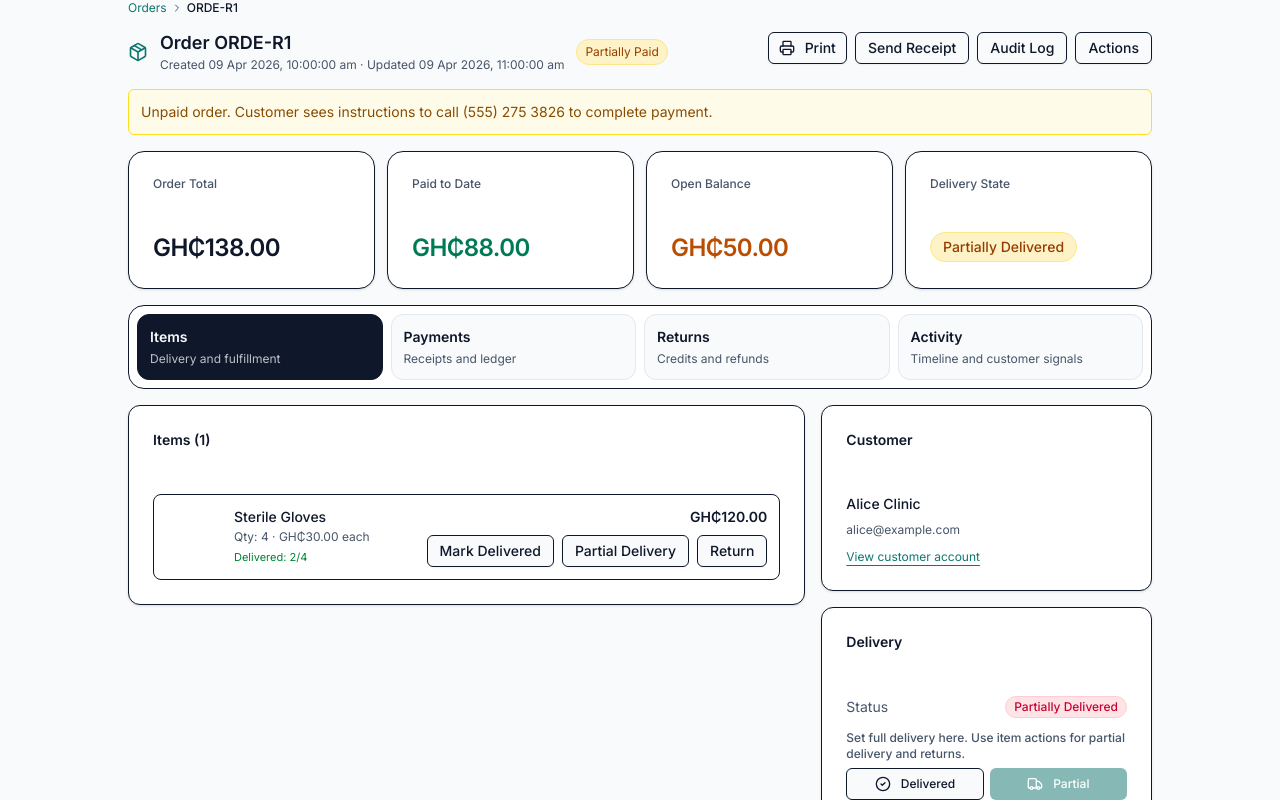
Test: OrderDetails › opens the payment dialog and fills the remaining balance with the pay-full action
The image size is (1280, 800).
Click the button "Payments Receipts and ledger". click: (513,346)
box: [390, 314, 636, 380]
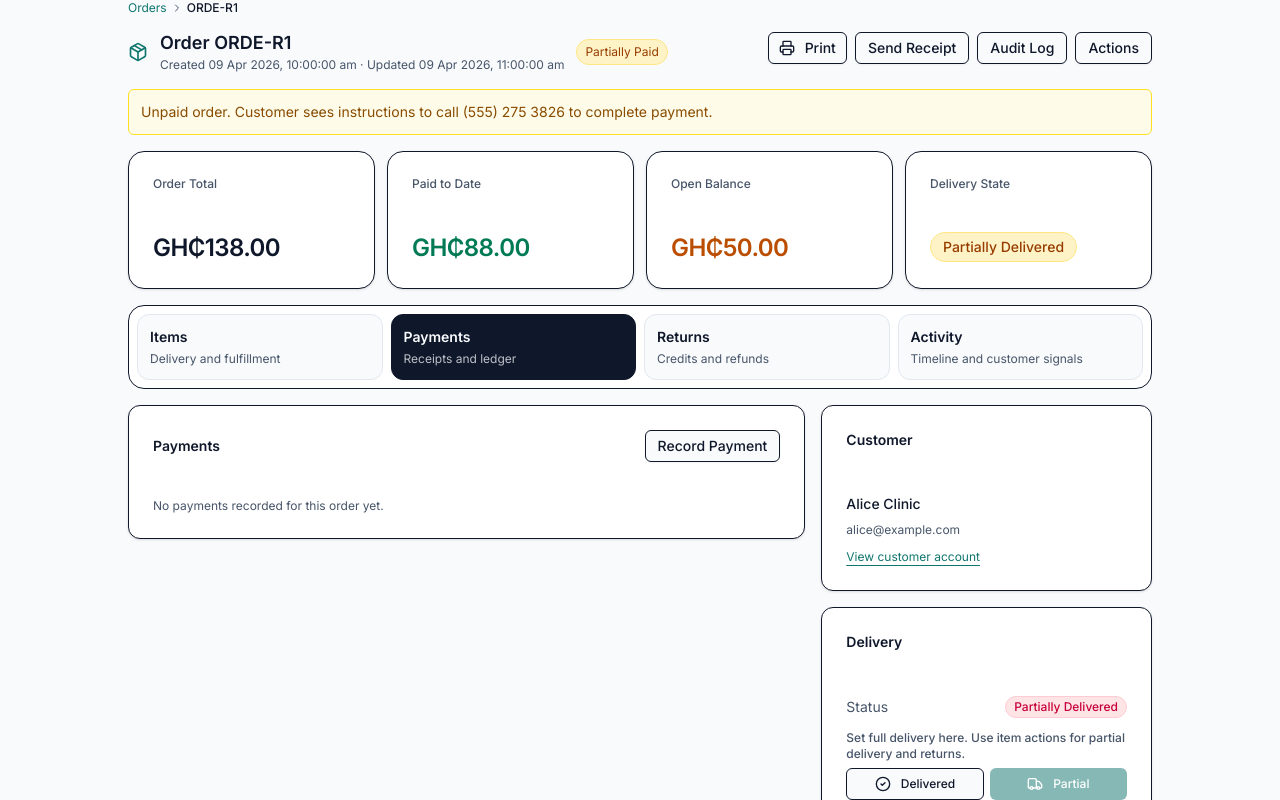
Click the button "Record Payment". click: (712,446)
box: [645, 430, 780, 462]
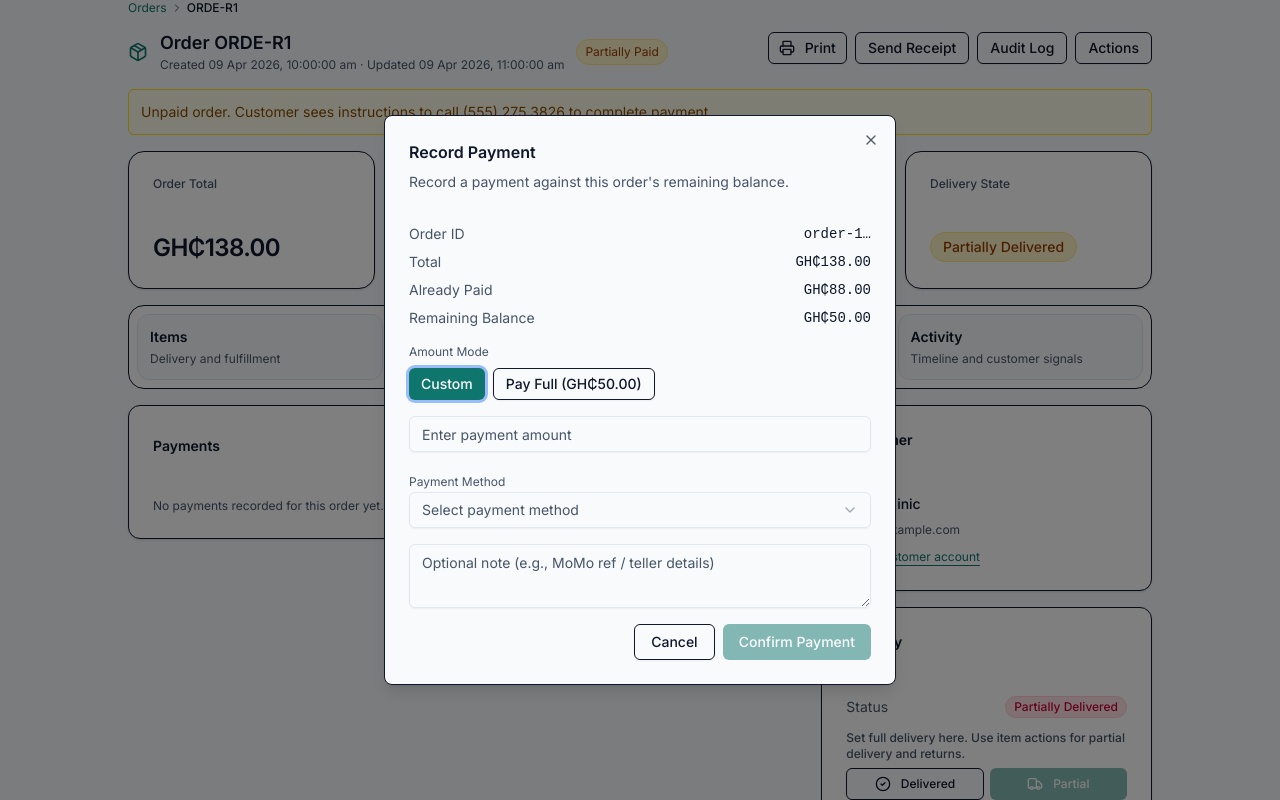
Now the number field with placeholder "Enter payment amount" is empty, box [409, 416, 871, 452]
Click the tab "Pay Full (GH₵50.00)". click: (574,384)
box: [493, 368, 655, 400]
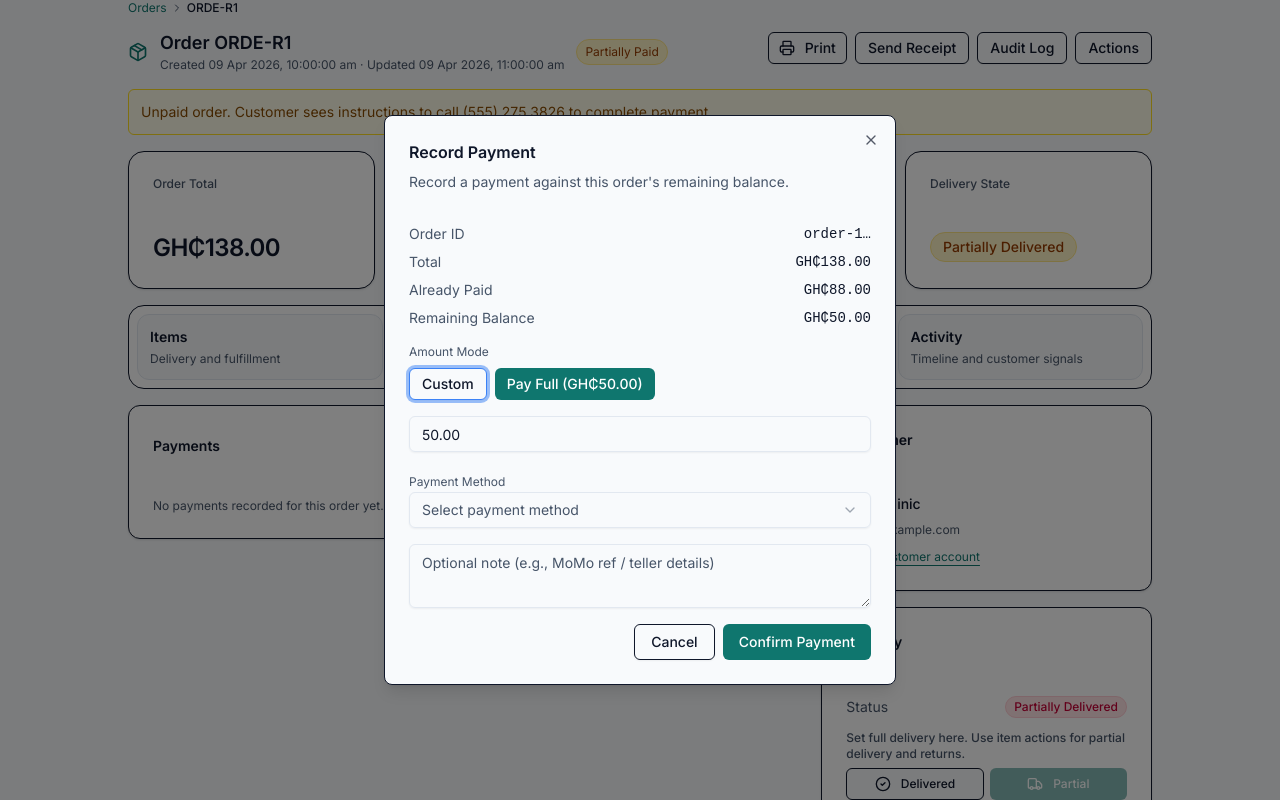
Now the number field with placeholder "Enter payment amount" holds "50.00", box [409, 416, 871, 452]
